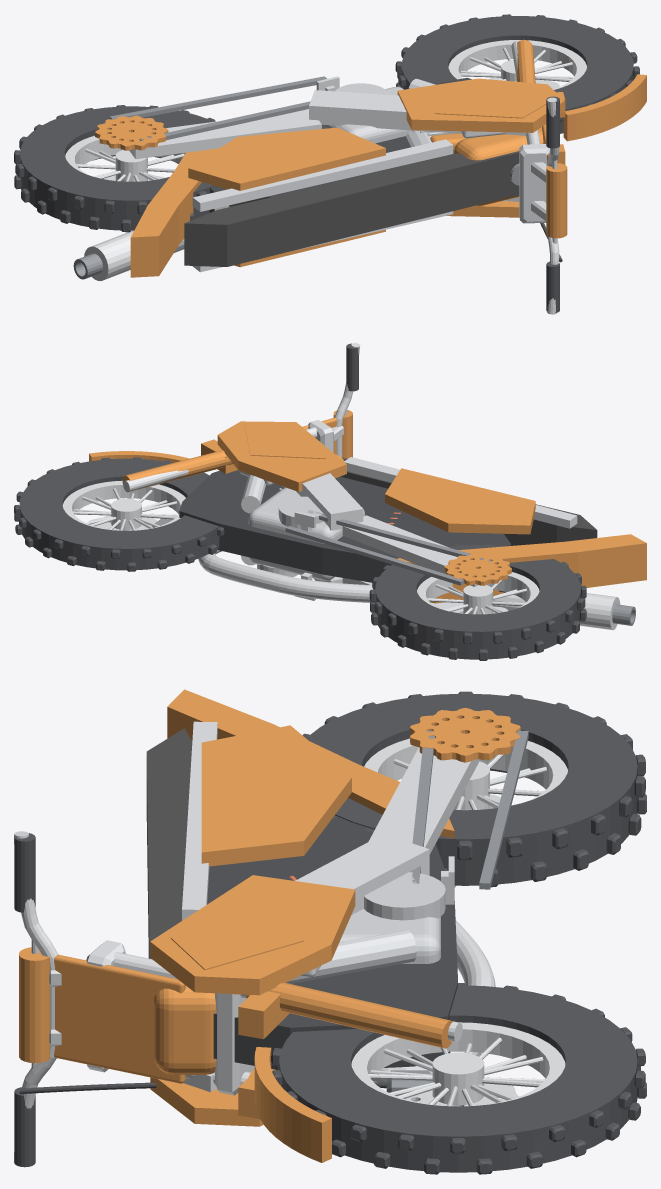
Rendered from motocross.glb.
3 views of the same model, one above another, from view 1: azimuth 30°, elevation 25°; view 2: azimuth 150°, elevation 25°; view 3: azimuth 270°, elevation 25° (orthographic). The views are drawn at different scales.
Parts seen in each view (by area): view 1: seat_158, tire_r_56, tire_f_0, side_plate1_157, shroud1_163, rear_fender_166, subframe1_137, spar1_135, swingarm1_170, front_fender_165, shroud_graphic1_164, rim_f_45 (+20 smaller); view 2: tire_r_56, tire_f_0, frame_core_155, side_plate1_157, rear_fender_166, shroud1_163, exhaust_header_152, swingarm1_170, engine_block_138, rim_f_45, shroud_graphic1_164, spar1_135 (+17 smaller); view 3: tire_f_0, tire_r_56, side_plate1_157, frame_core_155, shroud1_163, front_plate_131, seat_158, shroud_graphic1_164, rim_f_45, fork_boot1_118, tank_159, rear_fender_166 (+26 smaller).
Boxes of the visible parts, x1,y1,x2,y2 form: seat_158: [184, 151, 519, 266]; tire_r_56: [20, 106, 213, 230]; tire_f_0: [401, 16, 633, 133]; side_plate1_157: [188, 127, 385, 190]; shroud1_163: [397, 78, 564, 132]; rear_fender_166: [130, 148, 218, 277]; subframe1_137: [192, 139, 453, 211]; spar1_135: [309, 90, 526, 135]; swingarm1_170: [129, 109, 321, 159]; front_fender_165: [563, 74, 646, 141]; shroud_graphic1_164: [434, 85, 546, 118]; rim_f_45: [448, 40, 586, 89]; tire_r_56: [375, 545, 580, 659]; tire_f_0: [19, 458, 219, 570]; frame_core_155: [179, 470, 511, 582]; side_plate1_157: [385, 468, 535, 534]; rear_fender_166: [397, 534, 646, 603]; shroud1_163: [217, 421, 346, 491]; exhaust_header_152: [198, 549, 373, 602]; swingarm1_170: [342, 515, 478, 586]; engine_block_138: [248, 488, 364, 580]; rim_f_45: [62, 480, 185, 530]; shroud_graphic1_164: [244, 424, 325, 458]; spar1_135: [296, 473, 363, 530]; tire_f_0: [279, 985, 637, 1172]; tire_r_56: [306, 693, 637, 885]; side_plate1_157: [201, 725, 351, 866]; frame_core_155: [207, 815, 457, 1069]; shroud1_163: [150, 875, 355, 995]; front_plate_131: [54, 954, 185, 1083]; seat_158: [146, 728, 192, 958]; shroud_graphic1_164: [170, 891, 303, 970]; rim_f_45: [351, 1022, 565, 1105]; fork_boot1_118: [246, 982, 452, 1048]; tank_159: [153, 986, 216, 1074]; rear_fender_166: [167, 689, 454, 838].
Bounding box in the file's own units: 2.33 × 0.7924 × 1.38.
